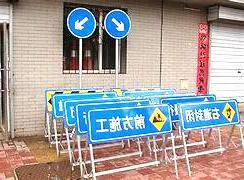sign: (88, 105, 170, 140), (180, 99, 239, 129)
